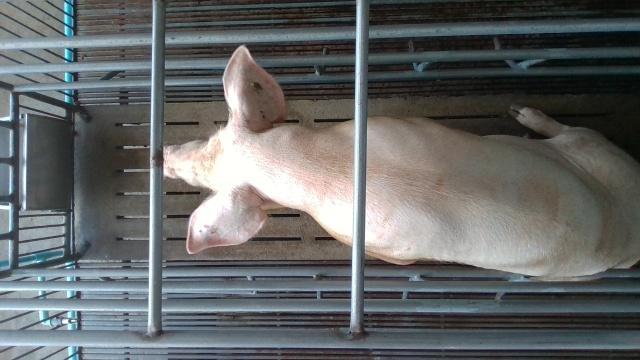sow-sit: (165, 45, 640, 277)
